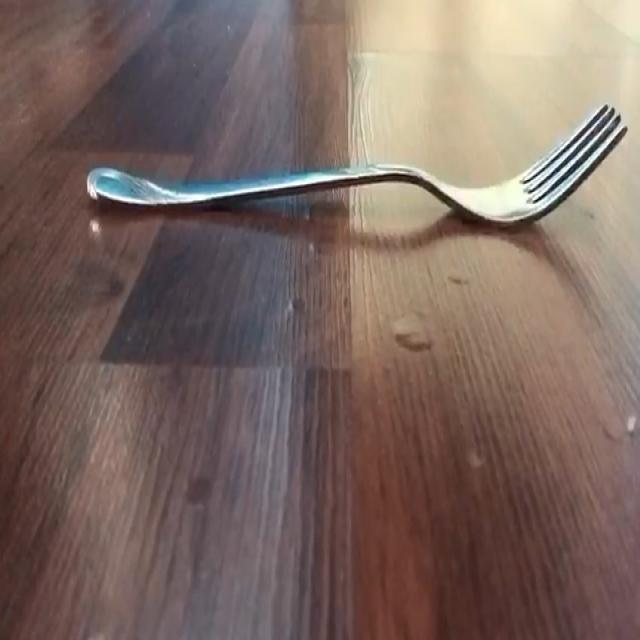spoon: (88, 104, 626, 224)
